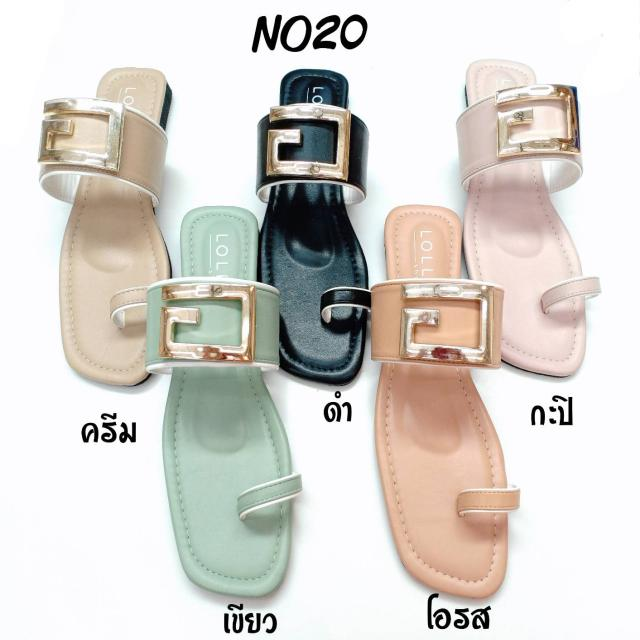black: (241, 59, 372, 404)
cream: (36, 40, 182, 418)
green: (161, 190, 294, 610)
kapi: (450, 61, 592, 393)
orot: (363, 192, 505, 613)
